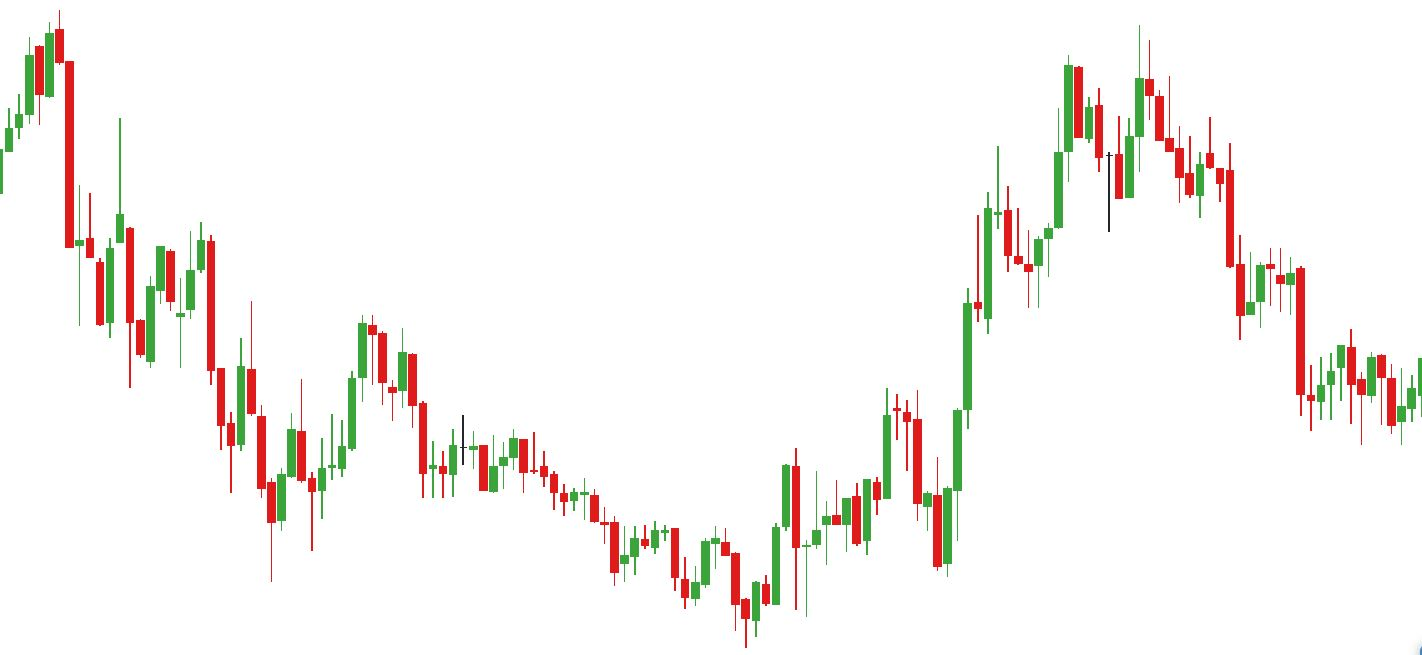buy: (850, 450, 952, 581), (681, 549, 762, 652)
sell: (298, 304, 389, 453), (1061, 21, 1157, 160)
